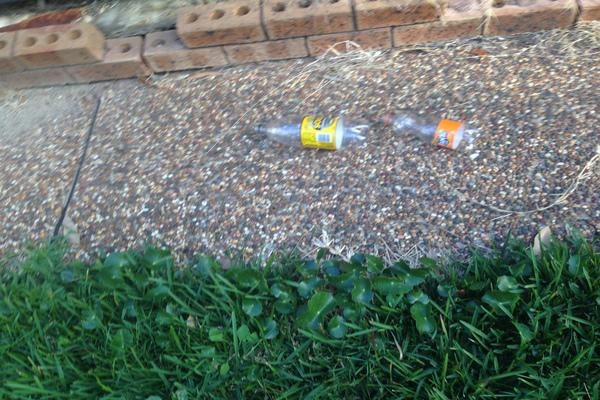Plastic Bottle: (380, 111, 480, 153), (253, 116, 368, 152)
